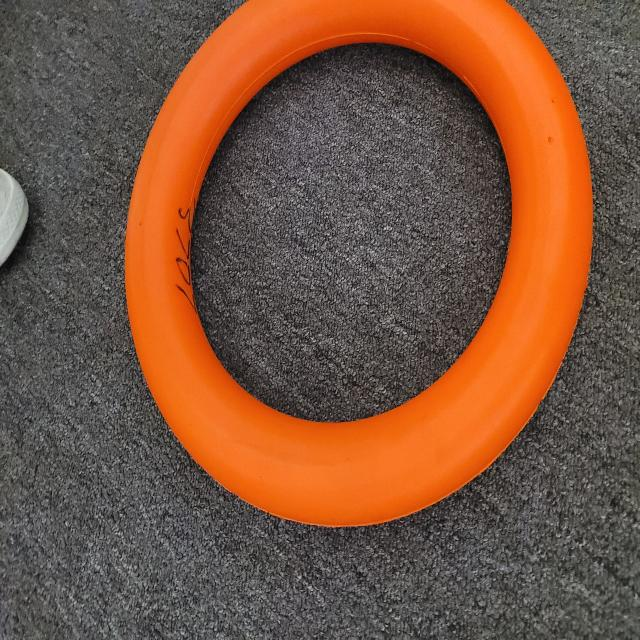note: (122, 0, 597, 547)
